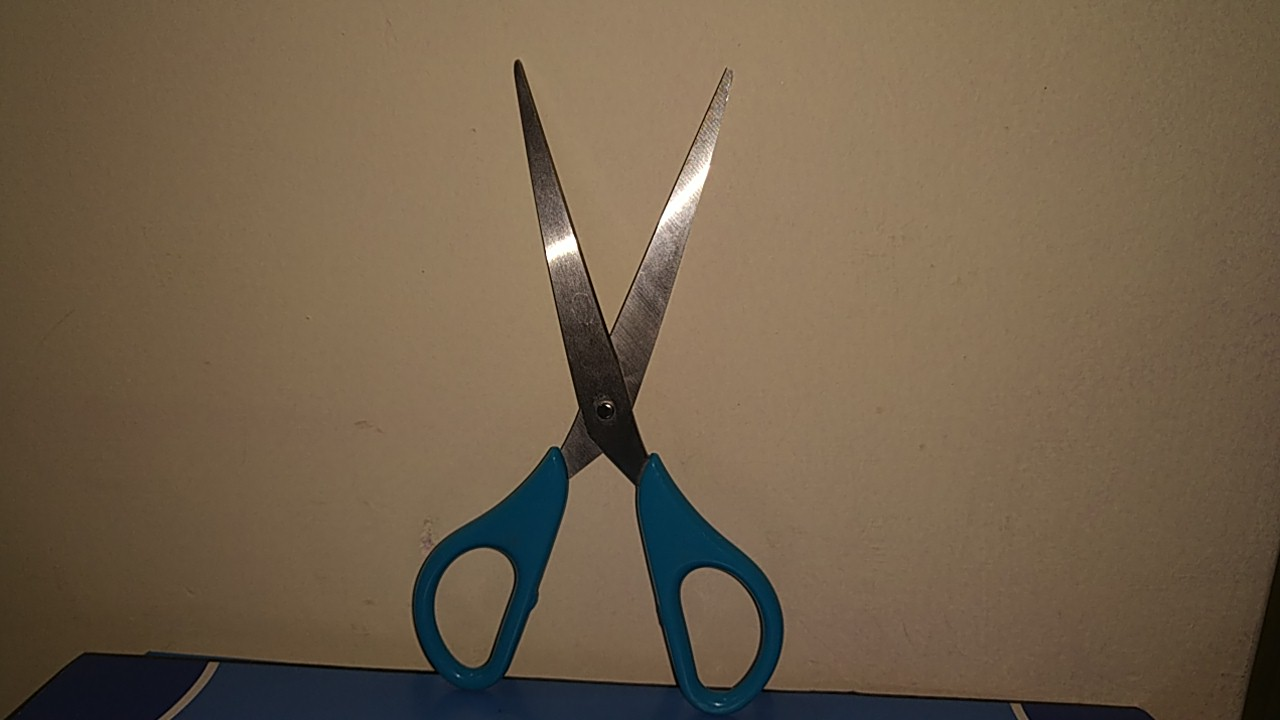scissor: (397, 44, 810, 720)
